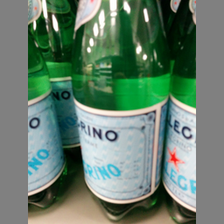water: (73, 1, 173, 222)
